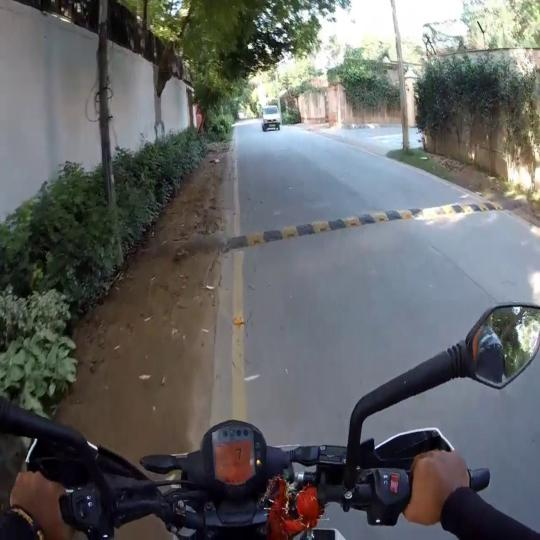Speed Bump: (223, 199, 503, 258)
